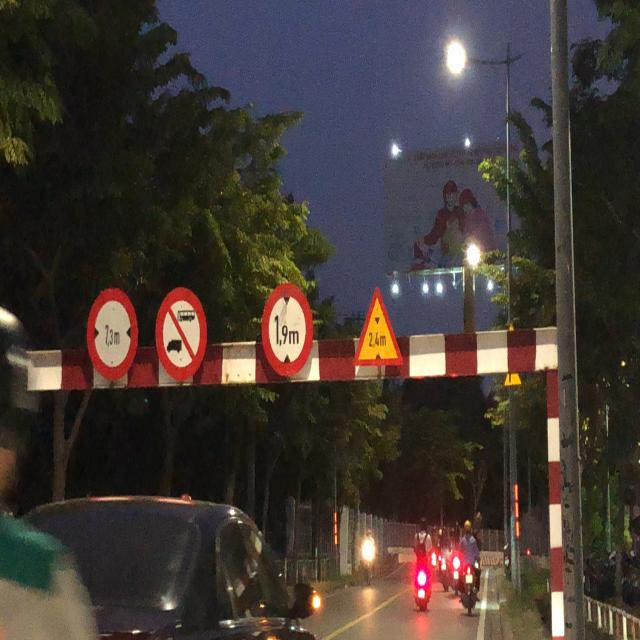Bien bao cam xe oto khach va xe oto tai: (155, 286, 216, 388)
Bien bao chieu cao tinh khong thuc te: (352, 279, 408, 376)
Bien bao han che chieu cao: (257, 273, 317, 380)
